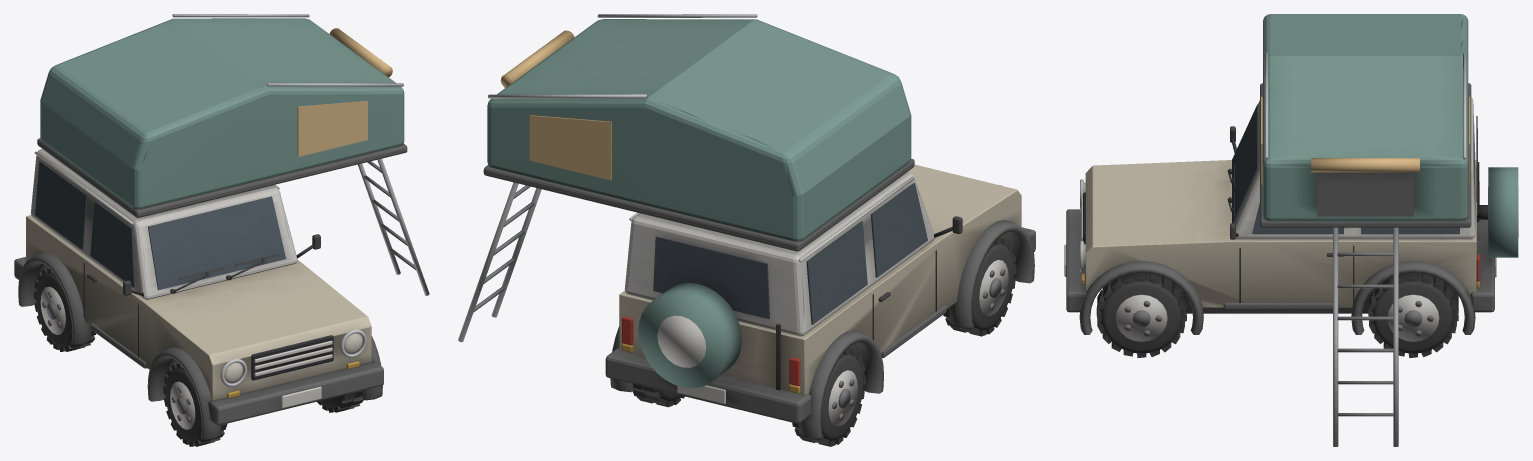
The model's file is jeep_camper.glb.
3 renders of one model, left to right at view 1: azimuth 30°, elevation 25°; view 2: azimuth 150°, elevation 25°; view 3: azimuth 270°, elevation 25°, orthographic. The views are drawn at different scales.
Parts seen in each view (by area): view 1: Jeep; view 2: Jeep; view 3: Jeep.
Boxes of the visible parts, x1,y1,x2,y2 form: Jeep: (14, 14, 429, 446); Jeep: (458, 14, 1035, 446); Jeep: (1064, 14, 1518, 446).
Size of the model in its own units: 3.56 by 2.71 by 3.76.
